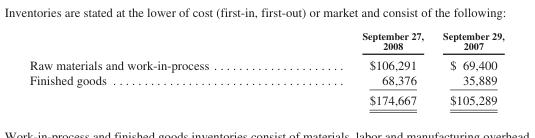table: (28, 29, 503, 107)
table column: (28, 29, 284, 107), (284, 29, 432, 107), (432, 29, 503, 107)
table column header: (28, 29, 503, 54)
table row: (28, 29, 503, 54), (28, 54, 503, 72), (28, 89, 503, 107), (28, 72, 503, 89)
